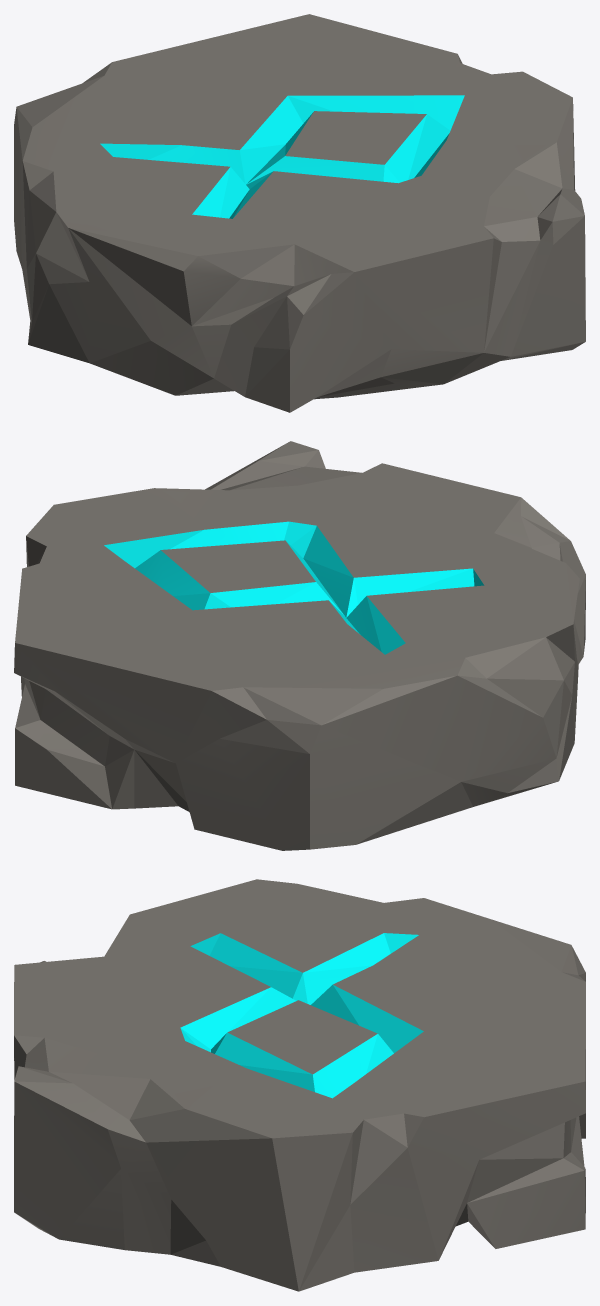
The model's file is SM_Env_Rounded_A_03.glb.
3 views of the same model, one above another, from view 1: azimuth 30°, elevation 25°; view 2: azimuth 150°, elevation 25°; view 3: azimuth 270°, elevation 25° (orthographic). The views are drawn at different scales.
Visible parts, largest first — view 1: SM_Env_Rounded_A_03; view 2: SM_Env_Rounded_A_03; view 3: SM_Env_Rounded_A_03.
Part boxes in pixels (x1,y1,x2,y2): SM_Env_Rounded_A_03: [14, 14, 585, 412]; SM_Env_Rounded_A_03: [14, 441, 585, 850]; SM_Env_Rounded_A_03: [14, 879, 585, 1291].
Size of the model in its own units: 2.7 by 0.687 by 2.41.
1 material, 1 textured.
